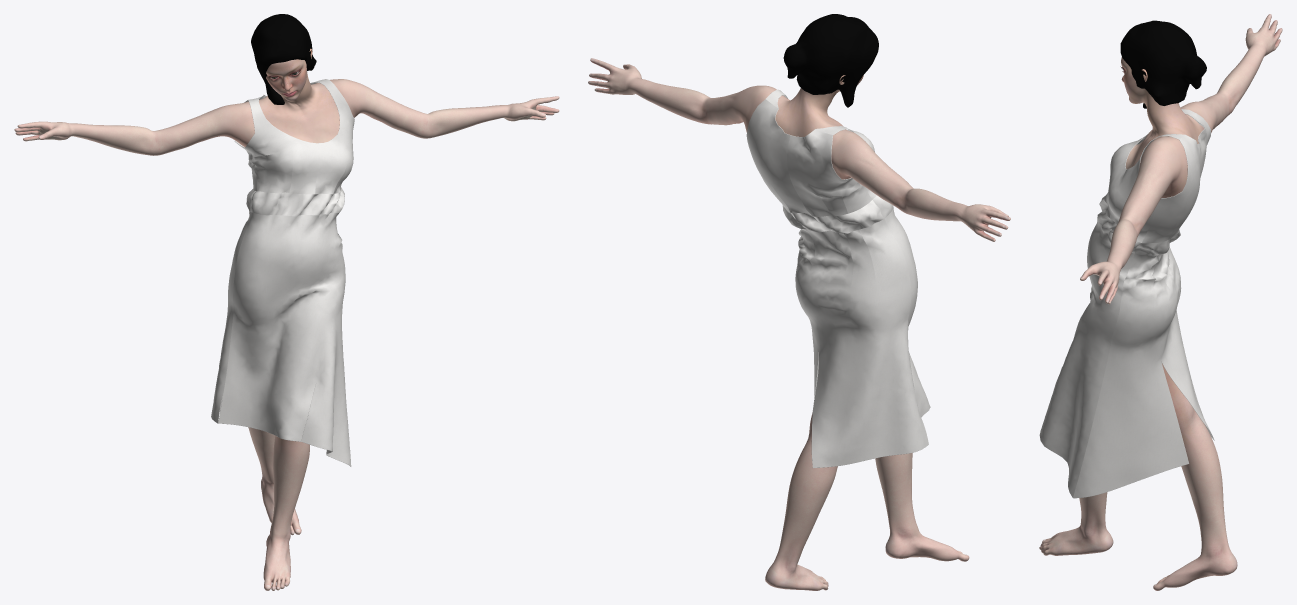
Rendered from random.obj.
The picture shows the model from 3 angles, left to right: view 1: azimuth 30°, elevation 25°; view 2: azimuth 150°, elevation 25°; view 3: azimuth 270°, elevation 25°; orthographic projection. The views are drawn at different scales.
Bounding box in the file's own units: 1601 × 1717 × 679.
